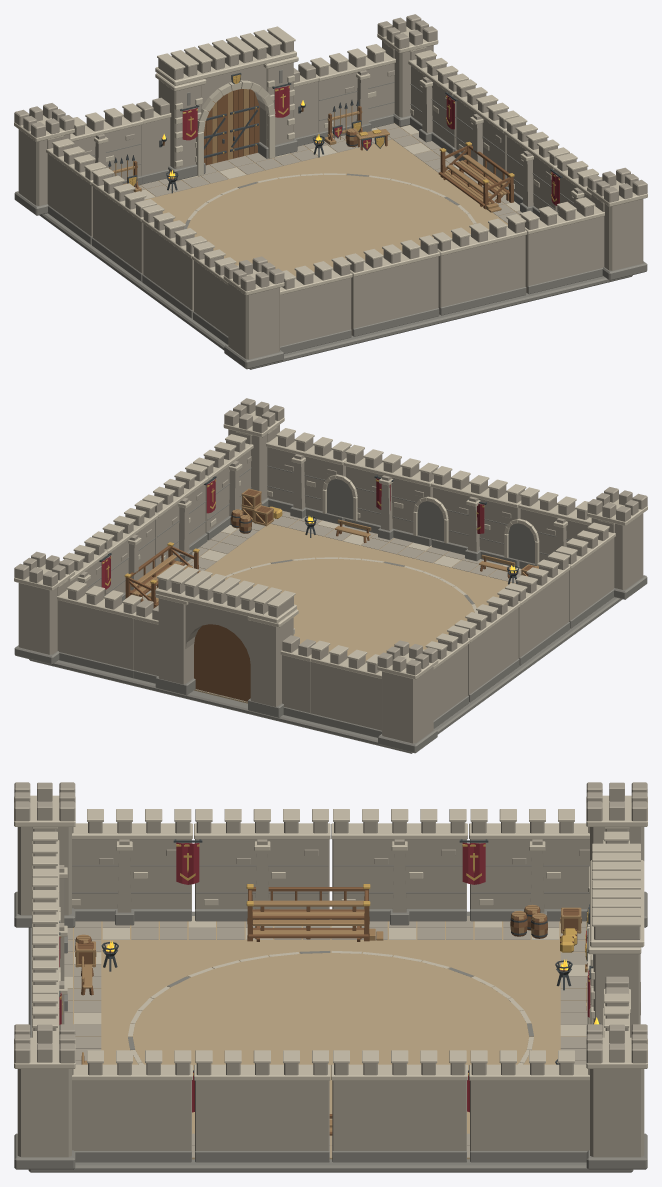
Rendered from arena.glb.
3 renders of one model, top to bottom at view 1: azimuth 30°, elevation 25°; view 2: azimuth 150°, elevation 25°; view 3: azimuth 270°, elevation 25°, orthographic. The views are drawn at different scales.
Parts seen in each view (by area): view 1: TC_Courtyard_Surface, TC_Gatehouse, TC_Wall_South_02, TC_Wall_South_03, TC_Wall_South_04, TC_Wall_North_02, TC_Wall_South_01, TC_CornerKeep_01, TC_Perimeter_Paving, TC_CornerKeep_02, TC_Wall_West_02, TC_Wall_West_03 (+17 smaller); view 2: TC_Courtyard_Surface, TC_Gatehouse, TC_Wall_North_02, TC_Wall_South_03, TC_Wall_South_02, TC_Wall_North_01, TC_Wall_South_04, TC_CornerKeep_04, TC_Perimeter_Paving, TC_CornerKeep_03, TC_Wall_West_02, TC_Wall_West_03 (+14 smaller); view 3: TC_Courtyard_Surface, TC_Wall_East_02, TC_Wall_East_03, TC_Wall_West_03, TC_Wall_East_01, TC_Wall_East_04, TC_Wall_West_02, TC_Perimeter_Paving, TC_Wall_West_01, TC_Wall_West_04, TC_Gatehouse, TC_CornerKeep_02 (+12 smaller).
Boxes of the visible parts, x1,y1,x2,y2 form: TC_Courtyard_Surface: (39,123,632,369); TC_Gatehouse: (155,26,298,180); TC_Wall_South_02: (345,235,440,336); TC_Wall_South_03: (432,214,527,315); TC_Wall_South_04: (519,196,604,294); TC_Wall_North_02: (310,42,395,139); TC_Wall_South_01: (280,256,352,353); TC_CornerKeep_01: (223,256,284,369); TC_Perimeter_Paving: (133,123,521,223); TC_CornerKeep_02: (587,167,647,280); TC_Wall_West_02: (141,204,207,318); TC_Wall_West_03: (91,167,156,281); TC_Courtyard_Surface: (29,511,622,753); TC_Gatehouse: (155,563,298,717); TC_Wall_North_02: (57,580,142,678); TC_Wall_South_03: (343,444,438,546); TC_Wall_South_02: (431,466,526,567); TC_Wall_North_01: (310,640,381,737); TC_Wall_South_04: (266,426,351,524); TC_CornerKeep_04: (377,640,438,753); TC_Perimeter_Paving: (142,510,521,702); TC_CornerKeep_03: (14,551,74,664); TC_Wall_West_02: (505,551,570,665); TC_Wall_West_03: (454,588,520,702); TC_Courtyard_Surface: (28,911,633,1172); TC_Wall_East_02: (194,1050,330,1162); TC_Wall_East_03: (331,1050,467,1162); TC_Wall_West_03: (331,809,467,925); TC_Wall_East_01: (72,1050,192,1162); TC_Wall_East_04: (469,1050,589,1162); TC_Wall_West_02: (194,809,330,921); TC_Perimeter_Paving: (64,916,587,1157); TC_Wall_West_01: (72,809,192,925); TC_Wall_West_04: (469,809,589,921); TC_Gatehouse: (587,843,644,1037); TC_CornerKeep_02: (14,1024,75,1169).
Bounding box in the file's own units: 31.02 × 8.73 × 31.02.
